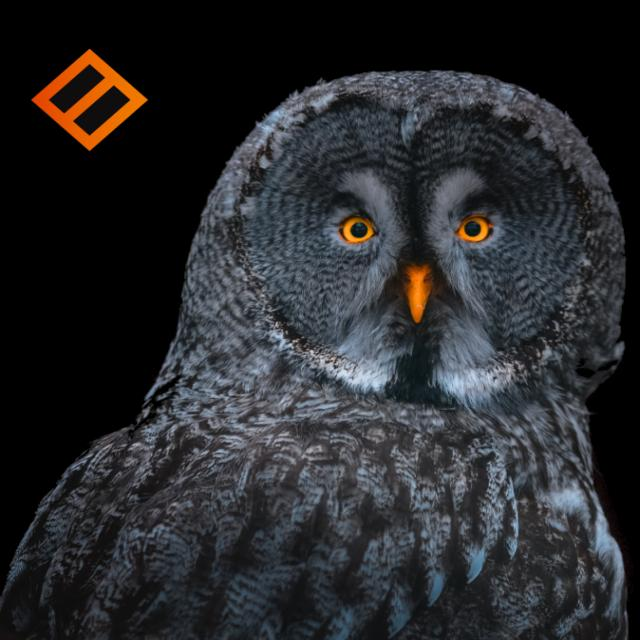Owl: (16, 68, 622, 640)
